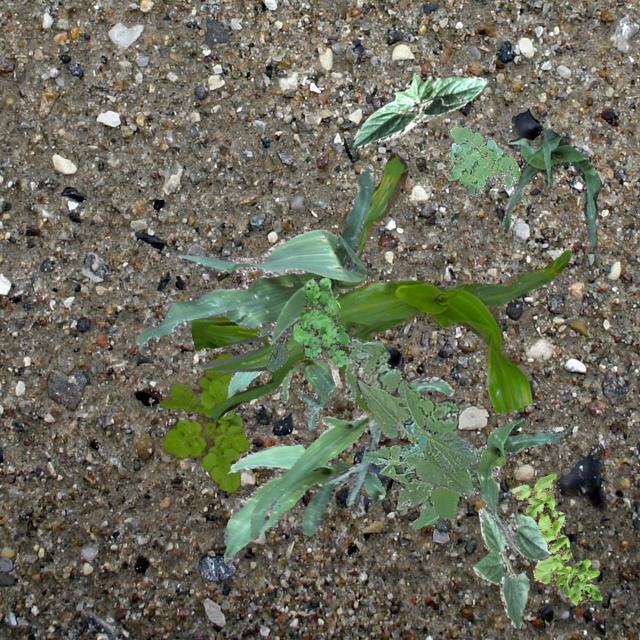crop: (190, 152, 570, 418), (138, 166, 372, 354), (248, 376, 454, 538), (222, 442, 384, 562), (354, 378, 476, 494), (474, 416, 572, 550), (502, 128, 600, 248), (348, 72, 488, 150), (472, 507, 550, 628), (225, 356, 334, 428)
weed: (344, 336, 476, 528), (156, 349, 248, 492), (509, 472, 602, 604), (362, 440, 483, 520), (292, 276, 352, 366), (446, 124, 520, 196), (255, 322, 292, 371)
